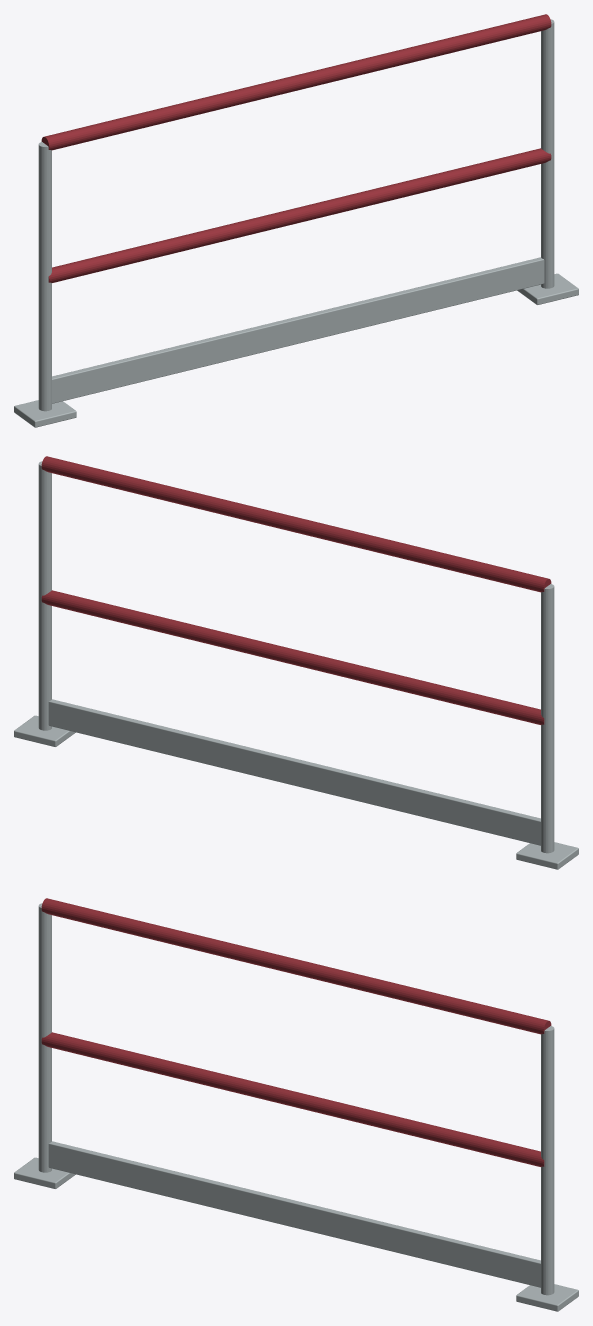
File: pneumatic-tube-mail-exchange-pneumatic-tube-mail-excha-e8187122__32308.glb
The picture shows the model from 3 angles, top to bottom: view 1: azimuth 30°, elevation 25°; view 2: azimuth 150°, elevation 25°; view 3: azimuth 330°, elevation 25°; orthographic projection.
Parts seen in each view (by area): view 1: pneumatic-tube-mail-exchange-gantry-railing; view 2: pneumatic-tube-mail-exchange-gantry-railing; view 3: pneumatic-tube-mail-exchange-gantry-railing.
Part boxes in pixels (x1,y1,x2,y2): pneumatic-tube-mail-exchange-gantry-railing: (14,14,578,427); pneumatic-tube-mail-exchange-gantry-railing: (14,456,578,869); pneumatic-tube-mail-exchange-gantry-railing: (14,898,578,1311).
Bounding box in the file's own units: 2.06 × 1.01 × 0.1401.
